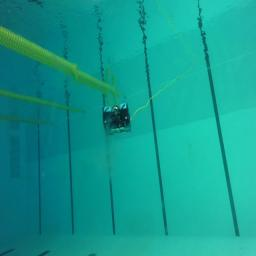front: (102, 103, 131, 134)
